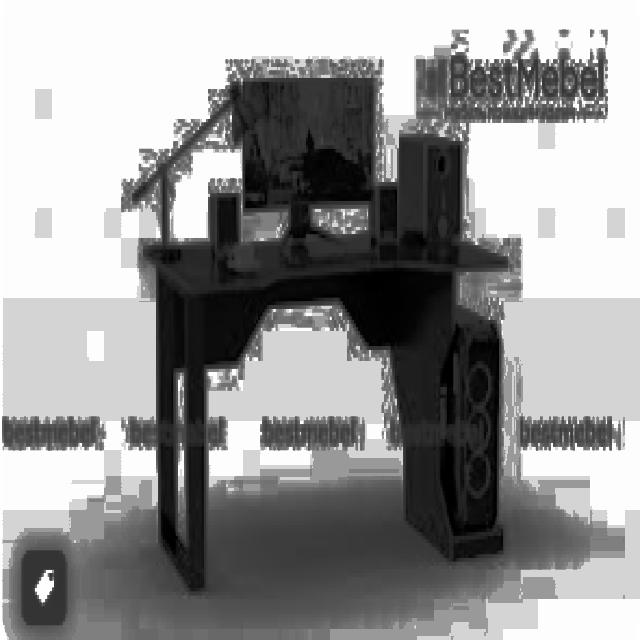table: (141, 230, 508, 592)
